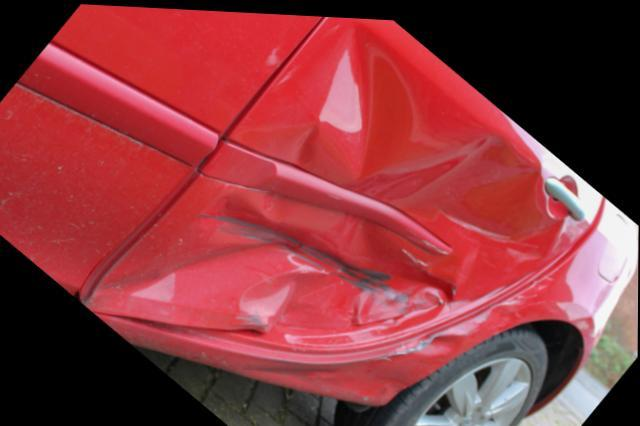dent: (112, 22, 558, 350)
